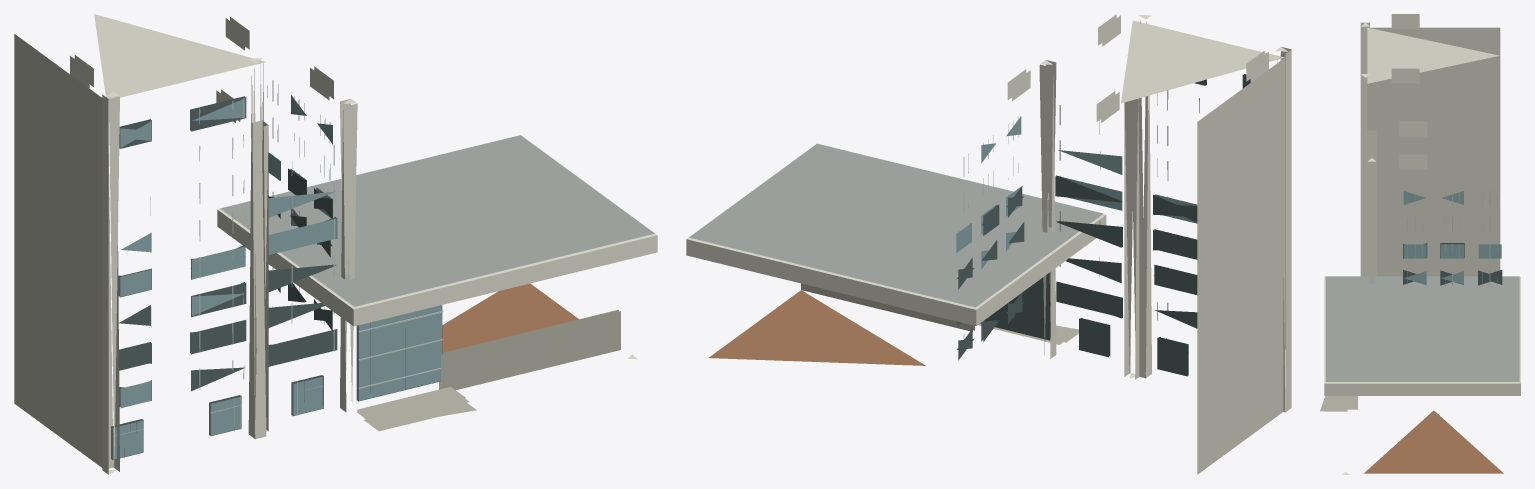
Rendered from buildings-14-medium.glb.
The picture shows the model from 3 angles, left to right: view 1: azimuth 30°, elevation 25°; view 2: azimuth 150°, elevation 25°; view 3: azimuth 270°, elevation 25°; orthographic projection. The views are drawn at different scales.
Visible parts, largest first — view 1: 逸夫科技楼 · Science warm stone.001, 逸夫科技楼 · Science roof membrane.001, 逸夫科技楼 · Science pale limestone edges.001, 逸夫科技楼 · Science pale blue glazing.001, 逸夫科技楼 · Science deep window recess.001, 逸夫科技楼 · Science banded sandstone base.001, 逸夫科技楼 · Science terracotta brick.001, 逸夫科技楼 · Science window aluminium.001; view 2: 逸夫科技楼 · Science warm stone.001, 逸夫科技楼 · Science roof membrane.001, 逸夫科技楼 · Science pale limestone edges.001, 逸夫科技楼 · Science deep window recess.001, 逸夫科技楼 · Science terracotta brick.001, 逸夫科技楼 · Science pale blue glazing.001, 逸夫科技楼 · Science banded sandstone base.001, 逸夫科技楼 · Science window aluminium.001; view 3: 逸夫科技楼 · Science warm stone.001, 逸夫科技楼 · Science roof membrane.001, 逸夫科技楼 · Science pale limestone edges.001, 逸夫科技楼 · Science terracotta brick.001, 逸夫科技楼 · Science pale blue glazing.001, 逸夫科技楼 · Science deep window recess.001, 逸夫科技楼 · Science banded sandstone base.001, 逸夫科技楼 · Science window aluminium.001.
Boxes of the visible parts, x1,y1,x2,y2 form: 逸夫科技楼 · Science warm stone.001: (14,14,265,467); 逸夫科技楼 · Science roof membrane.001: (220,135,654,306); 逸夫科技楼 · Science pale limestone edges.001: (70,17,657,474); 逸夫科技楼 · Science pale blue glazing.001: (113,95,441,459); 逸夫科技楼 · Science deep window recess.001: (111,96,442,460); 逸夫科技楼 · Science banded sandstone base.001: (356,309,620,431); 逸夫科技楼 · Science terracotta brick.001: (442,283,578,352); 逸夫科技楼 · Science window aluminium.001: (113,80,443,457); 逸夫科技楼 · Science warm stone.001: (1121,20,1285,474); 逸夫科技楼 · Science roof membrane.001: (689,143,1103,307); 逸夫科技楼 · Science pale limestone edges.001: (686,14,1291,412); 逸夫科技楼 · Science deep window recess.001: (956,74,1250,376); 逸夫科技楼 · Science terracotta brick.001: (709,290,925,365); 逸夫科技楼 · Science pale blue glazing.001: (956,116,1197,269); 逸夫科技楼 · Science banded sandstone base.001: (801,283,1078,344); 逸夫科技楼 · Science window aluminium.001: (958,90,1199,353); 逸夫科技楼 · Science warm stone.001: (1367,27,1500,276); 逸夫科技楼 · Science roof membrane.001: (1325,276,1519,381); 逸夫科技楼 · Science pale limestone edges.001: (1324,14,1520,474); 逸夫科技楼 · Science terracotta brick.001: (1364,410,1503,473); 逸夫科技楼 · Science pale blue glazing.001: (1403,191,1501,285); 逸夫科技楼 · Science deep window recess.001: (1403,243,1502,285); 逸夫科技楼 · Science banded sandstone base.001: (1320,396,1357,411); 逸夫科技楼 · Science window aluminium.001: (1407,190,1497,285).
Size of the model in its own units: 46.5 by 33 by 21.45.
